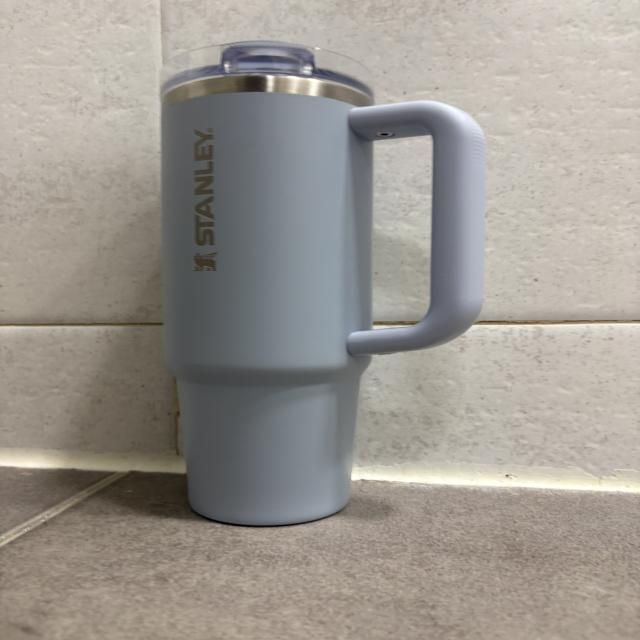waterbottle: (161, 41, 483, 526)
